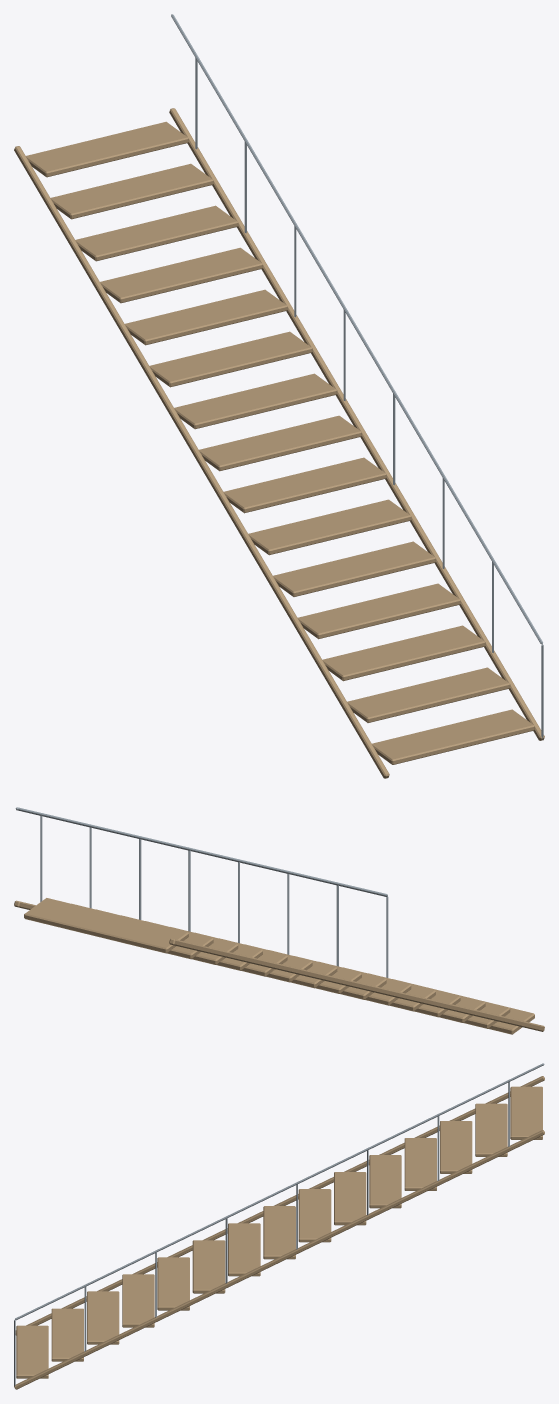
File: saloon_stairs_6m.glb
3 views of the same model, one above another, from view 1: azimuth 30°, elevation 25°; view 2: azimuth 150°, elevation 25°; view 3: azimuth 270°, elevation 25° (orthographic). The views are drawn at different scales.
Parts seen in each view (by area): view 1: saloon_stairs_6m; view 2: saloon_stairs_6m; view 3: saloon_stairs_6m.
Boxes of the visible parts, <box> form: saloon_stairs_6m: <box>14,14,544,778</box>; saloon_stairs_6m: <box>14,807,544,1034</box>; saloon_stairs_6m: <box>14,1063,544,1389</box>.
Bounding box in the file's own units: 1.5 × 4.07 × 6.02.
